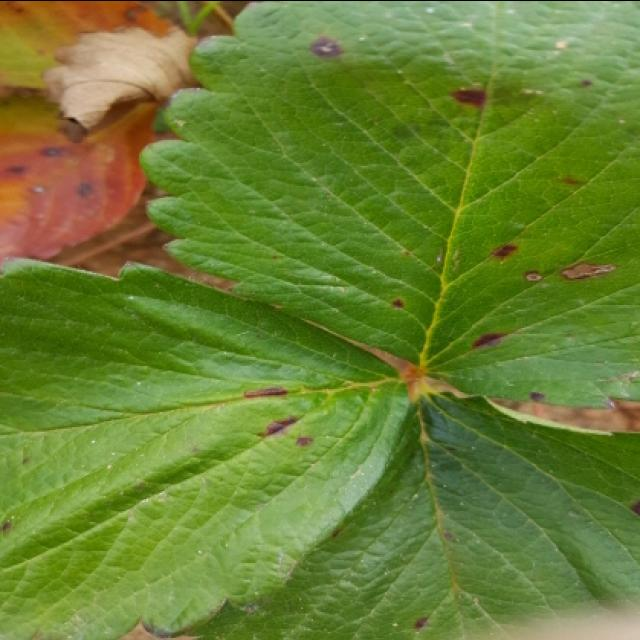Leaf Spot: (138, 0, 638, 407), (0, 259, 410, 638), (179, 377, 638, 638), (0, 95, 164, 260)
